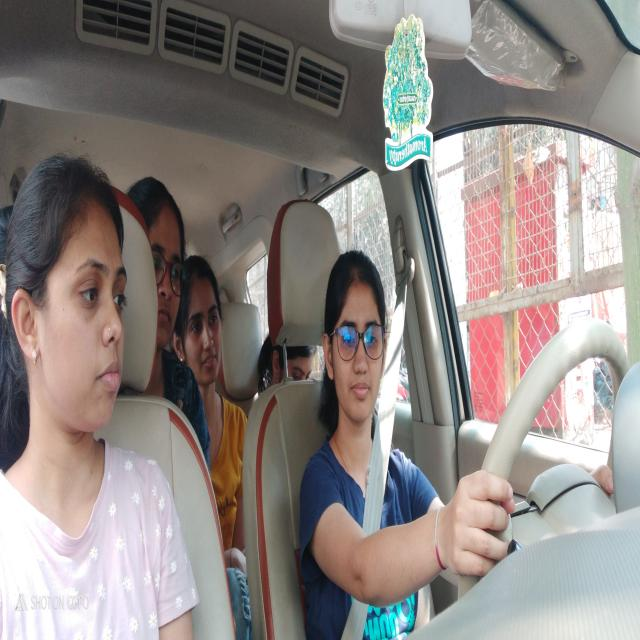person: (5, 149, 135, 455), (318, 246, 392, 444), (128, 168, 185, 355), (183, 256, 227, 395), (268, 334, 317, 393)
